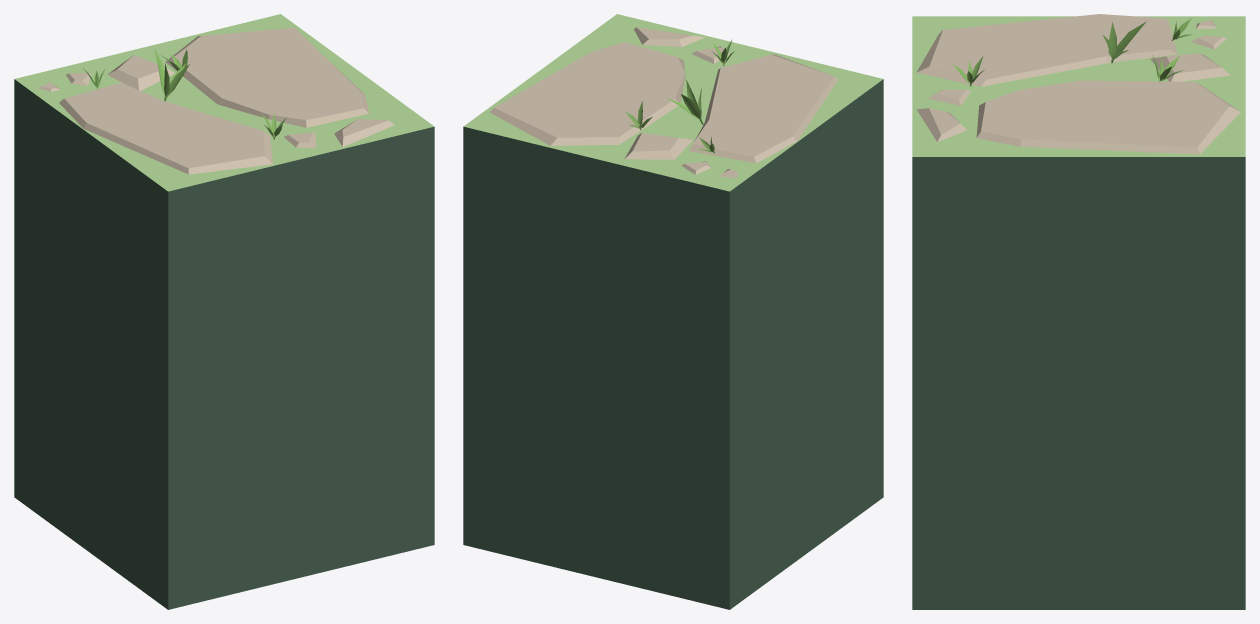
File: Path04.fbx
3 renders of one model, left to right at view 1: azimuth 30°, elevation 25°; view 2: azimuth 150°, elevation 25°; view 3: azimuth 270°, elevation 25°, orthographic. The views are drawn at different scales.
Parts seen in each view (by area): view 1: Cube.030; view 2: Cube.030; view 3: Cube.030.
Boxes of the visible parts, box(x1,y1,x2,y2) form: Cube.030: box(14, 14, 434, 609); Cube.030: box(463, 14, 883, 609); Cube.030: box(912, 14, 1245, 609).
Size of the model in its own units: 100 by 165 by 100.
